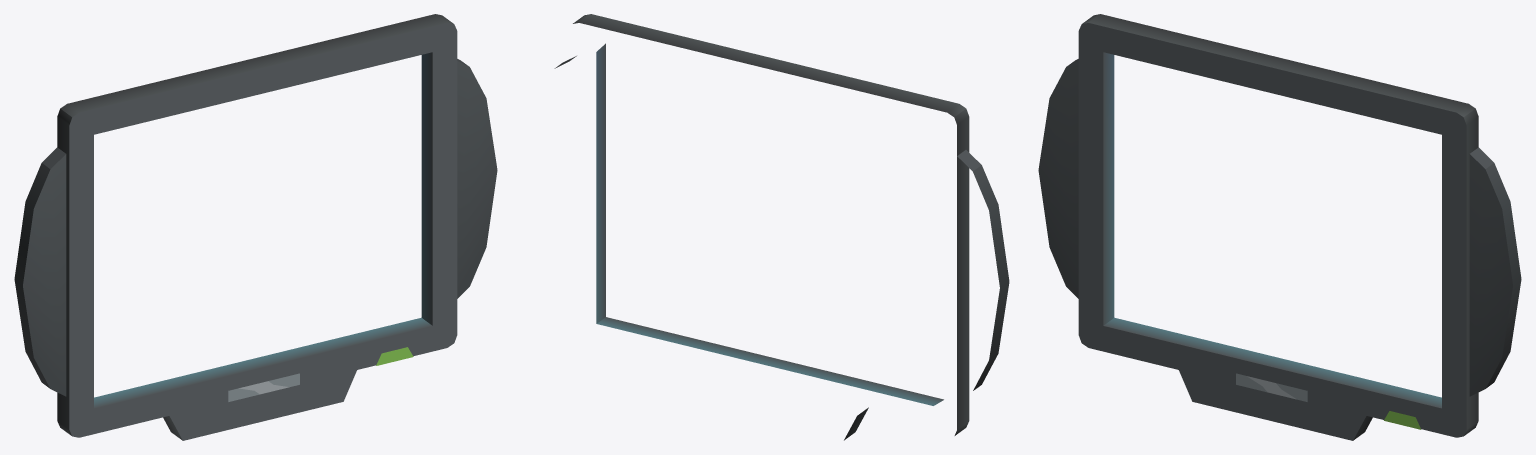
Rendered from LabTVMonitor.glb.
The picture shows the model from 3 angles, left to right: view 1: azimuth 30°, elevation 25°; view 2: azimuth 150°, elevation 25°; view 3: azimuth 330°, elevation 25°; orthographic projection.
Parts seen in each view (by area): view 1: LabTVMonitor; view 2: LabTVMonitor; view 3: LabTVMonitor.
Boxes of the visible parts, x1=… form: LabTVMonitor: x1=14, y1=14, x2=497, y2=440; LabTVMonitor: x1=554, y1=14, x2=1009, y2=440; LabTVMonitor: x1=1038, y1=14, x2=1521, y2=440.
Size of the model in its own units: 1.61 by 1.15 by 0.0758.
